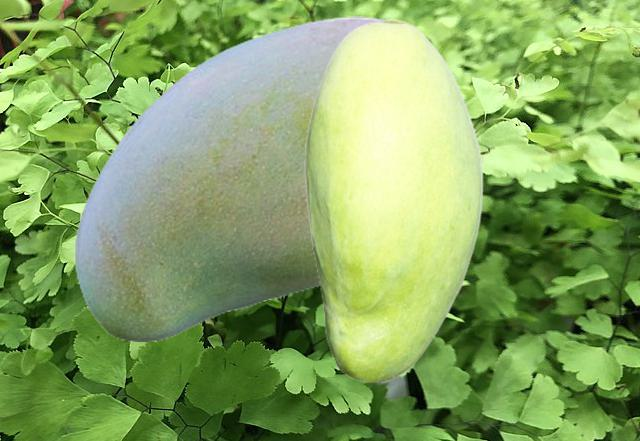green_mango: (74, 16, 464, 340), (304, 18, 482, 382)
